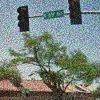traffic lights: (66, 0, 82, 24), (18, 10, 27, 31)
